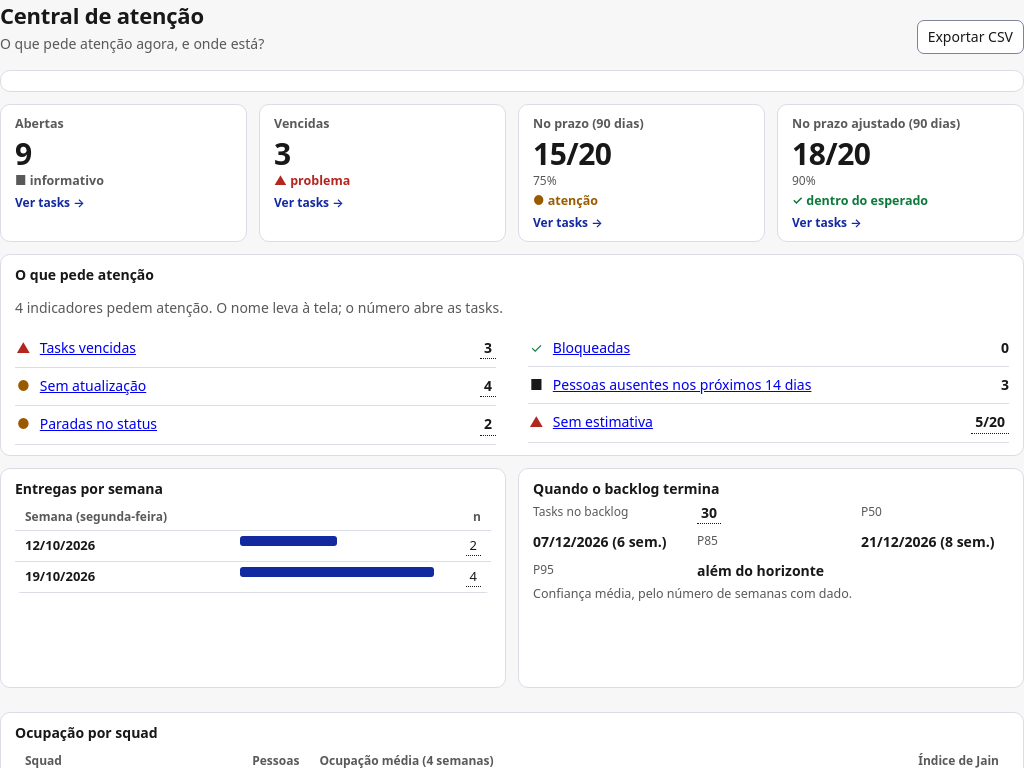
Test: tela Central de atenção › centralItensSaoLinks
O número abre as tasks do cartão da Central, com o segmento do item.
Click the button named "Tasks vencidas: 3" at [488, 348], box [480,338,496,359]
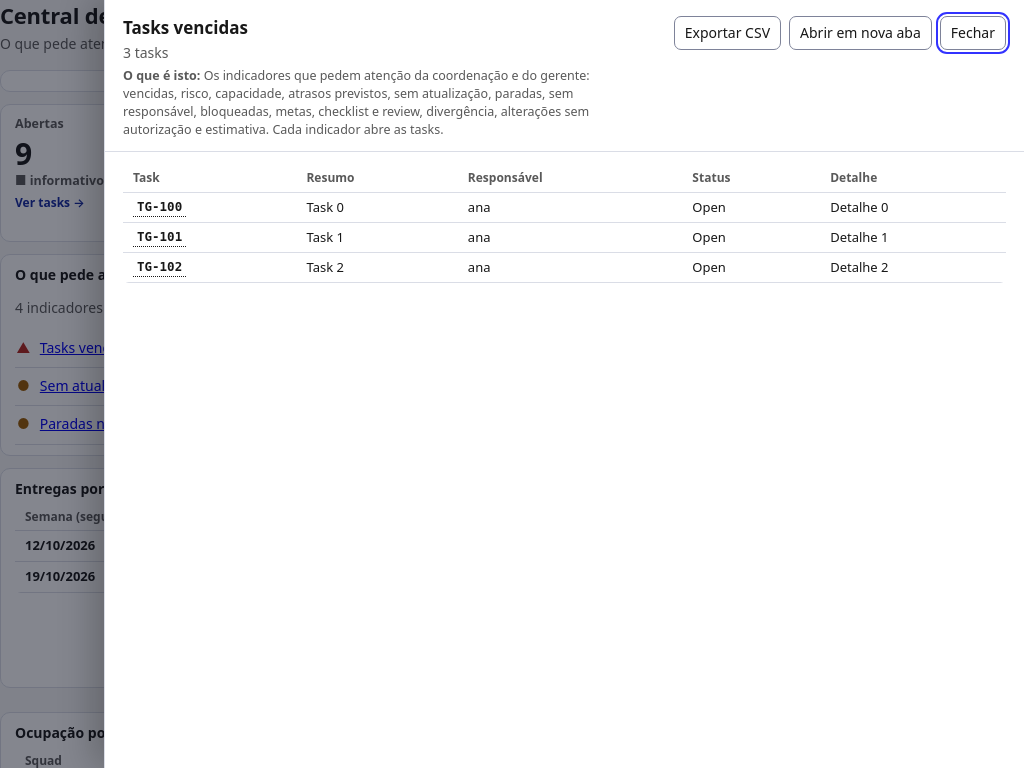
Result: the dialog is shown
